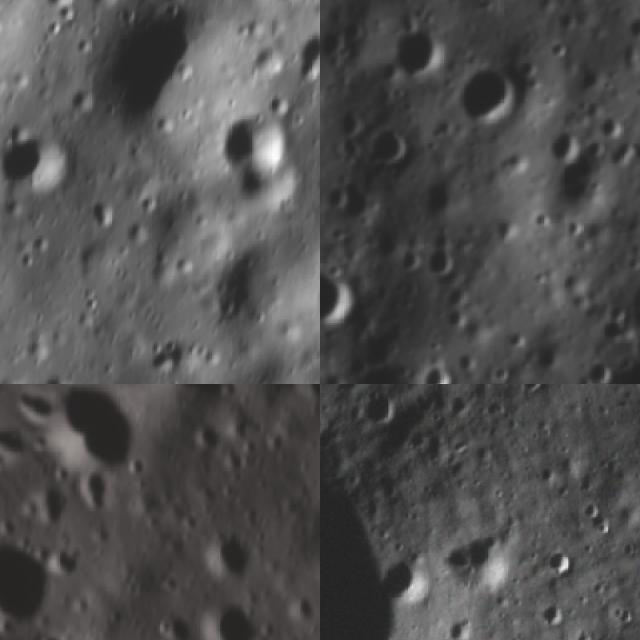crater: (320, 400, 416, 640), (84, 5, 220, 128), (0, 514, 80, 640), (194, 246, 288, 339), (73, 409, 159, 496), (535, 138, 617, 223), (444, 52, 524, 130), (213, 101, 294, 173), (437, 513, 512, 588), (0, 131, 75, 202), (234, 158, 306, 215), (388, 19, 447, 88), (203, 523, 267, 586), (193, 593, 272, 640), (323, 175, 388, 227), (320, 255, 363, 333), (422, 162, 472, 219), (368, 117, 418, 162), (366, 214, 409, 262), (412, 240, 461, 282), (483, 205, 528, 250), (542, 124, 586, 166), (291, 24, 320, 84), (434, 277, 474, 316), (413, 353, 459, 384), (541, 546, 579, 581), (332, 104, 368, 140), (86, 193, 118, 232), (582, 349, 616, 384), (596, 106, 628, 140), (320, 26, 349, 63), (196, 384, 293, 394), (438, 306, 472, 333), (483, 359, 514, 384), (342, 16, 368, 42), (78, 0, 123, 13), (35, 371, 78, 384), (622, 13, 640, 42), (40, 0, 78, 10), (630, 133, 640, 165)
